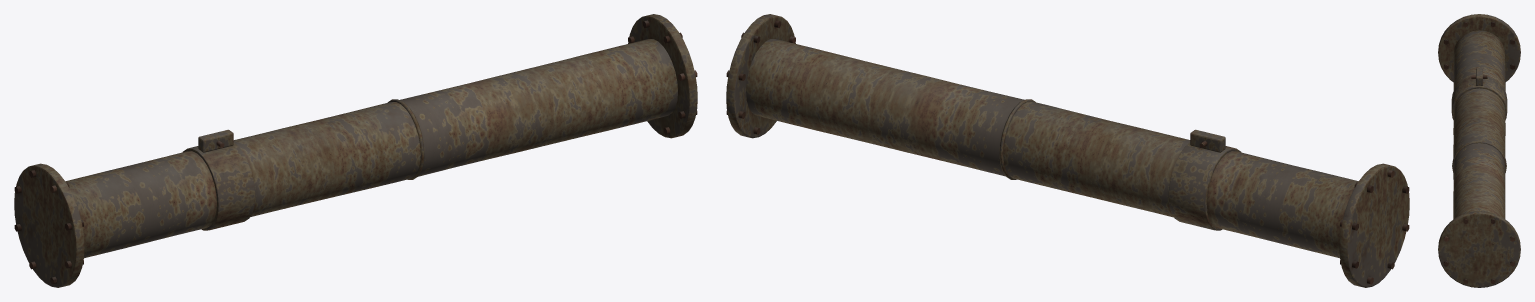
Rendered from Pipe_Large_2m.fbx.
3 renders of one model, left to right at view 1: azimuth 30°, elevation 25°; view 2: azimuth 150°, elevation 25°; view 3: azimuth 270°, elevation 25°, orthographic. The views are drawn at different scales.
Visible parts, largest first — view 1: Pipe_Large_2m_Mesh; view 2: Pipe_Large_2m_Mesh; view 3: Pipe_Large_2m_Mesh.
Part boxes in pixels (box(x1,y1,x2,y2)): Pipe_Large_2m_Mesh: box(14, 14, 697, 287); Pipe_Large_2m_Mesh: box(726, 14, 1409, 287); Pipe_Large_2m_Mesh: box(1438, 14, 1520, 287).
Size of the model in its own units: 2.02 by 0.35 by 0.35.
